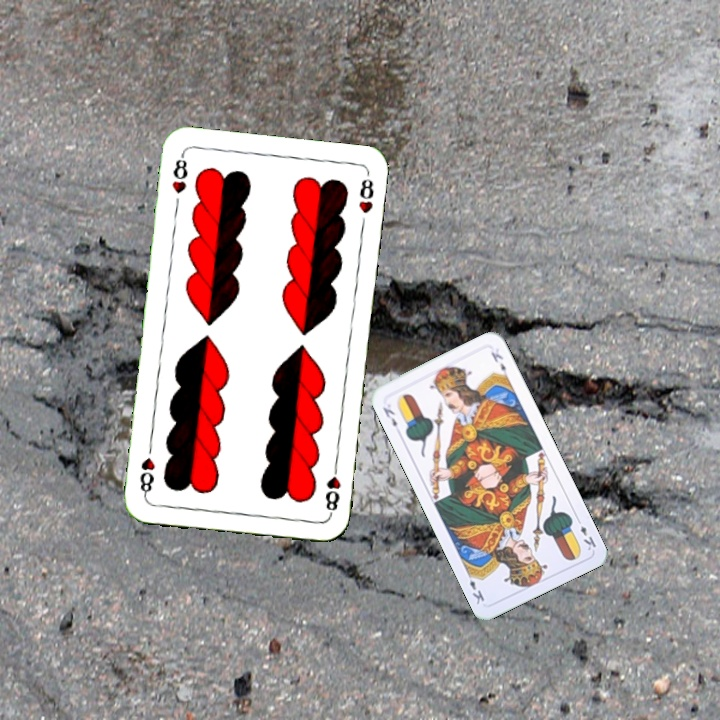EK: (572, 514, 599, 553), (379, 403, 399, 430)
H8: (321, 459, 343, 518), (168, 150, 191, 197)
